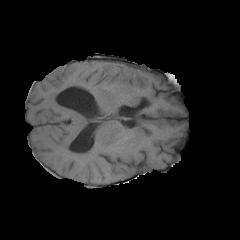glioma: (48, 63, 129, 102)
